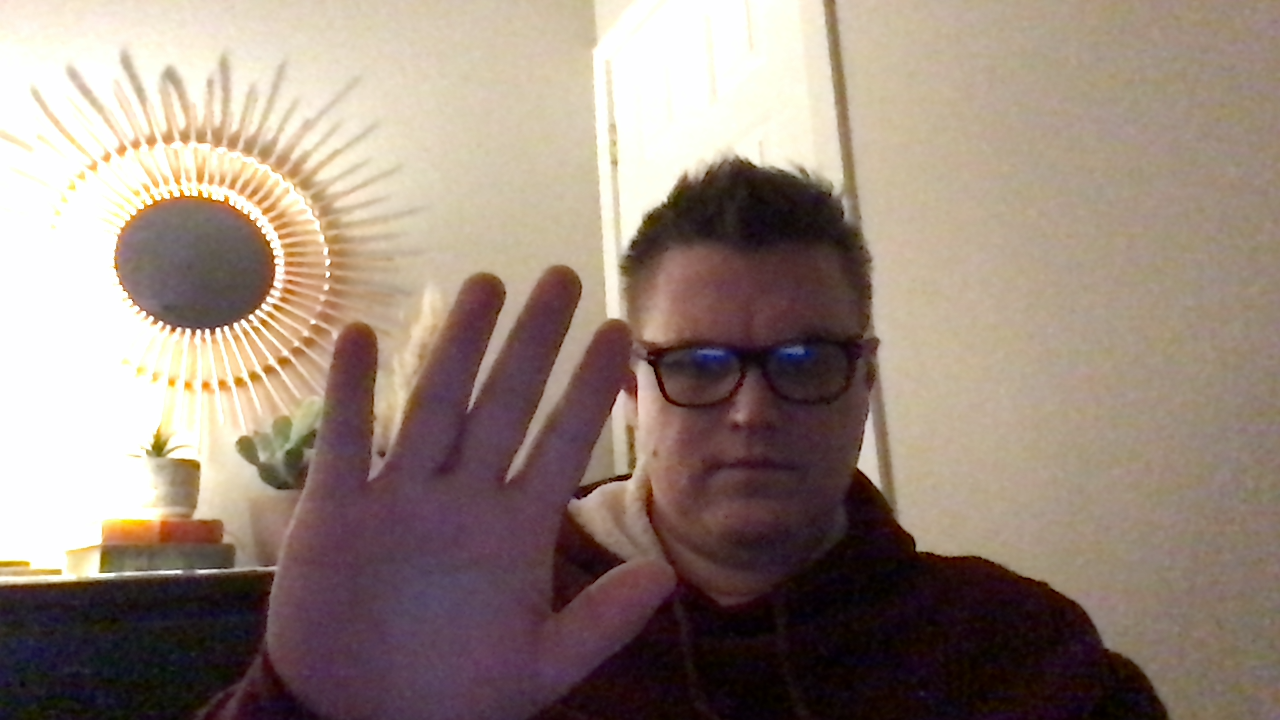hello: (266, 262, 675, 720)
